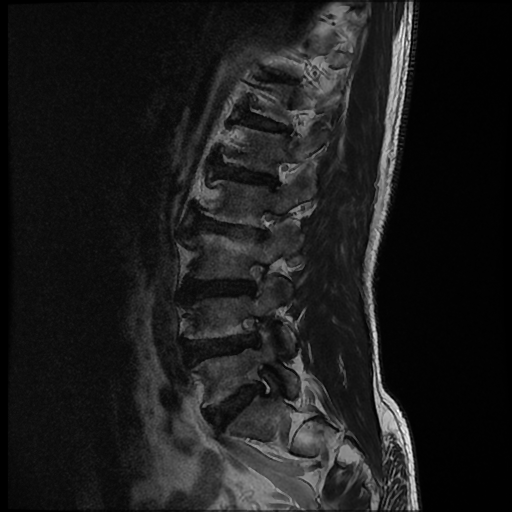RFS1: (231, 253, 275, 306)
